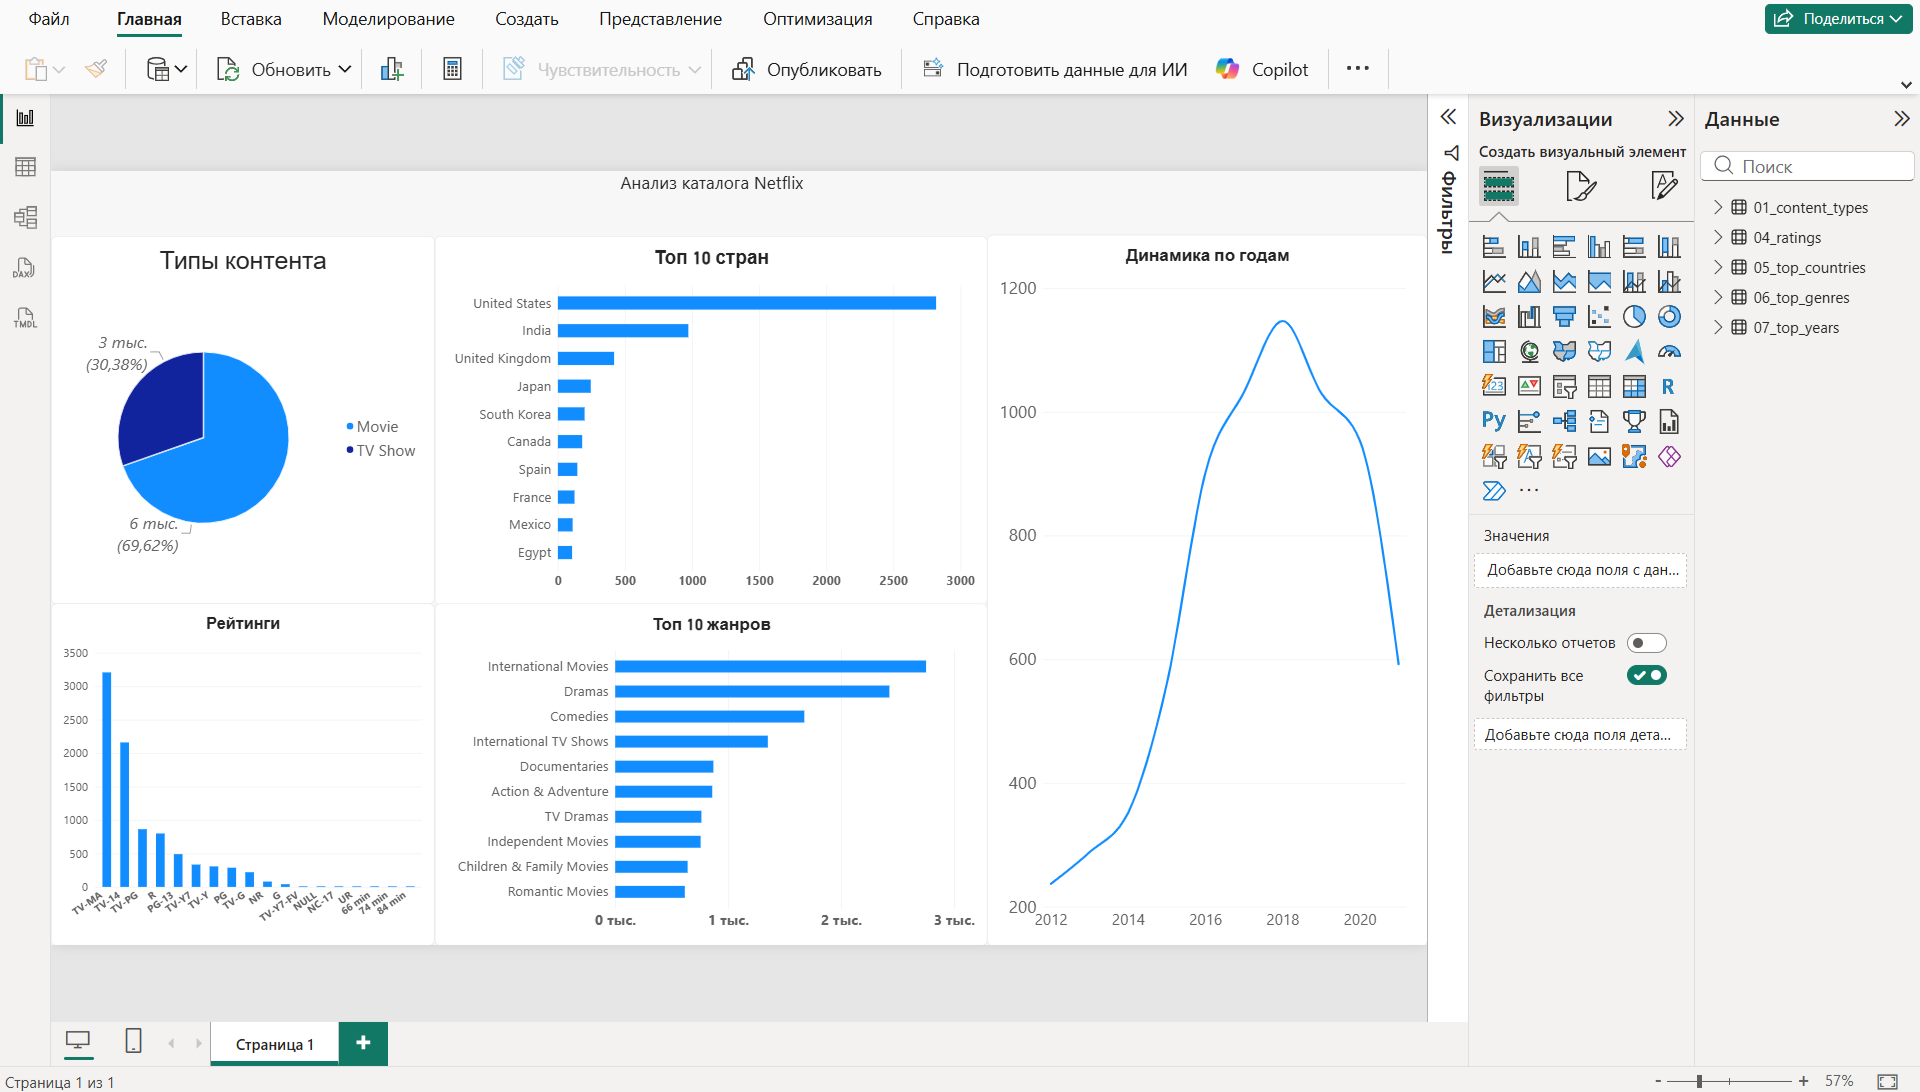

The dashboard page shown, as its layout file describes it:
{"tool":"powerbi","page":{"name":"Страница 1","canvas":[1920,1080],"ordinal":0},"visuals":[{"type":"pieChart","title":"Типы контента","fields":{"Category":["01_content_types.type"],"Y":["Sum(01_content_types.titles_count)"]},"box":[0,90.1,534.9,513.3],"z":0},{"type":"columnChart","title":"Рейтинги","fields":{"Category":["04_ratings.rating"],"Y":["Sum(04_ratings.titles_count)"]},"box":[0,603.4,534.9,477.3],"z":1000},{"type":"clusteredBarChart","title":"Топ 10 стран","fields":{"Category":["05_top_countries.country"],"Y":["Sum(05_top_countries.titles_count)"]},"box":[534.9,90.1,770.9,515.1],"z":2000},{"type":"barChart","title":"Топ 10 жанров","fields":{"Category":["06_top_genres.single_genre"],"Y":["Sum(06_top_genres.titles_count)"]},"box":[534.9,603.4,770.9,477.3],"z":3000},{"type":"lineChart","title":"Динамика по годам","fields":{"Category":["07_top_years.release_year"],"Y":["Sum(07_top_years.titles_count)"]},"box":[1305.8,88.3,614.2,992.4],"z":4000},{"type":"textbox","box":[635.8,0,571,226.9],"z":4002}]}

Visuals, with their boxes on the page's 1920x1080 design canvas (x1, y1, x2, y2). These are canvas units, not pixel positions in the 1920x1092 screenshot, which may show the page scaled, cropped or inside an application window:
"Типы контента" pieChart: 0:90:535:603
"Рейтинги" columnChart: 0:603:535:1081
"Топ 10 стран" clusteredBarChart: 535:90:1306:605
"Топ 10 жанров" barChart: 535:603:1306:1081
"Динамика по годам" lineChart: 1306:88:1920:1081
textbox: 636:0:1207:227
